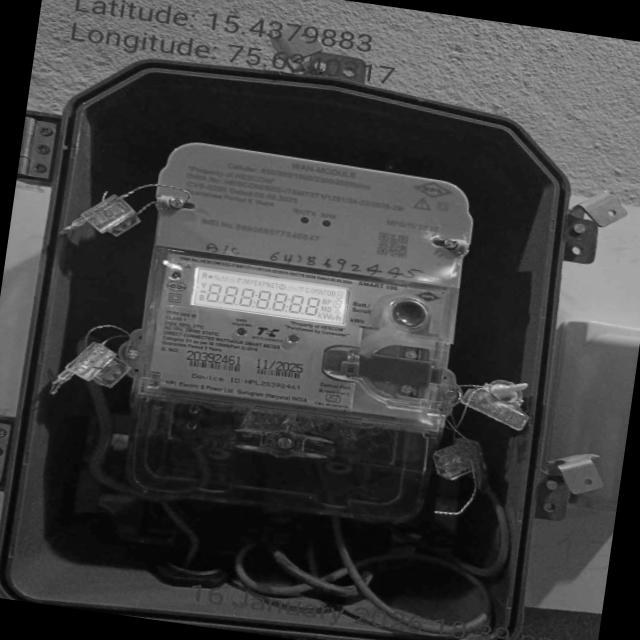meter: (140, 140, 486, 432)
